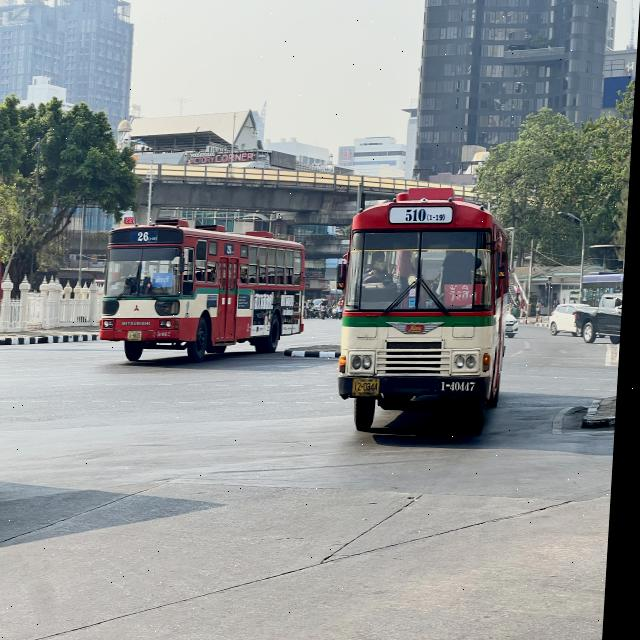BMTA-bus: (338, 186, 518, 434), (101, 220, 314, 365), (0, 173, 12, 435)
Bus-Line-Number: (403, 203, 452, 223), (135, 228, 162, 242)
Destination-Sign-Extra-Bus: (448, 282, 488, 306)
Destination-Sign-Normal: (156, 273, 176, 288)
